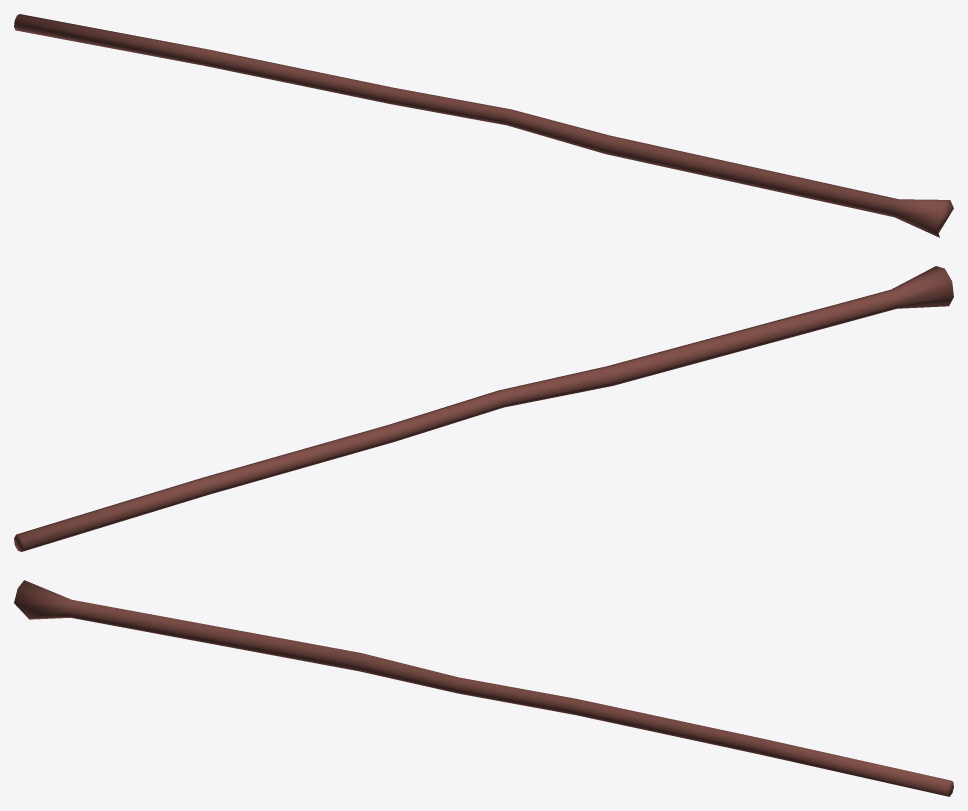
Rendered from staff.glb.
3 renders of one model, top to bottom at view 1: azimuth 90°, elevation 25°; view 2: azimuth 150°, elevation 25°; view 3: azimuth 270°, elevation 25°, orthographic. The views are drawn at different scales.
Visible parts, largest first — view 1: wood; view 2: wood; view 3: wood.
Boxes of the visible parts, x1,y1,x2,y2 form: wood: (14, 14, 953, 237); wood: (14, 266, 953, 551); wood: (14, 580, 953, 796).
Size of the model in its own units: 1.23 by 0.0991 by 2.4.
